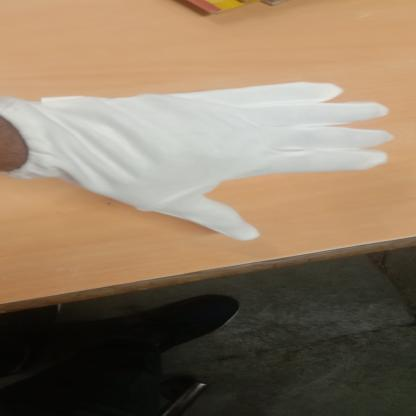gloved_hand: (0, 77, 394, 246)
